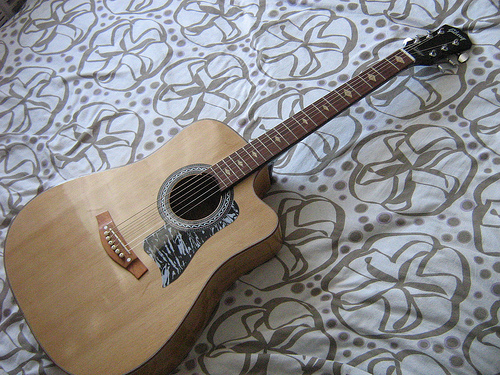guitar: (1, 23, 473, 374)
